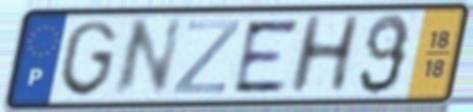9: (356, 11, 412, 98)
E: (231, 16, 303, 96)
G: (57, 18, 121, 100)
H: (284, 12, 366, 98)
N: (108, 14, 187, 101)
Z: (169, 17, 245, 97)
